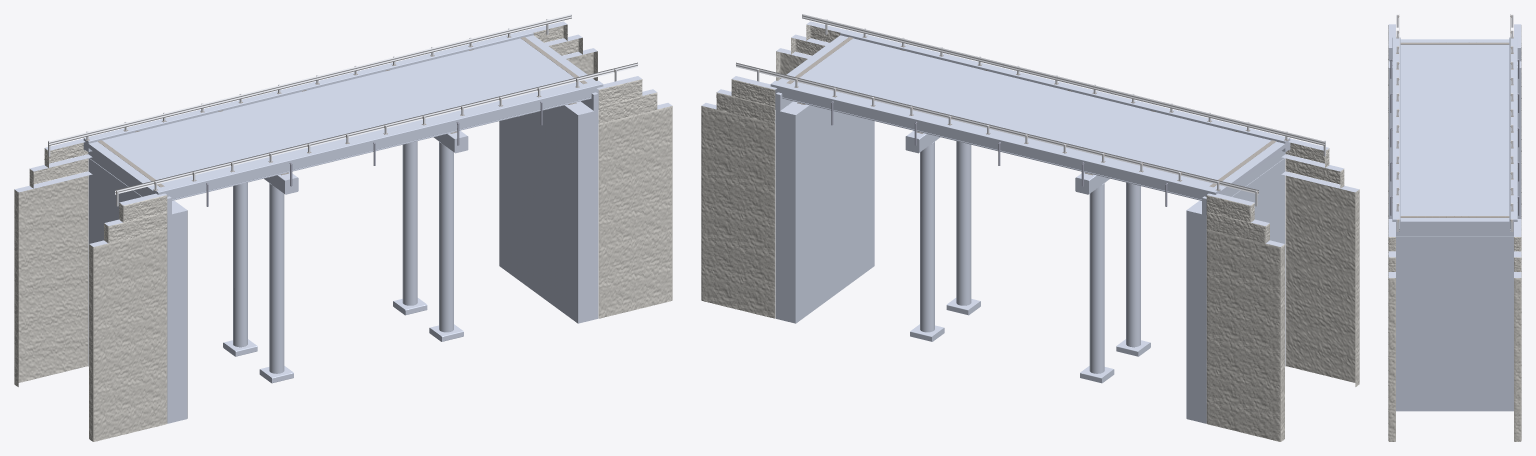
File: roadbridge.glb
3 renders of one model, left to right at view 1: azimuth 30°, elevation 25°; view 2: azimuth 150°, elevation 25°; view 3: azimuth 270°, elevation 25°, orthographic. The views are drawn at different scales.
Parts seen in each view (by area): view 1: roadbridge; view 2: roadbridge; view 3: roadbridge.
Boxes of the visible parts, x1,y1,x2,y2 form: roadbridge: [14, 14, 672, 441]; roadbridge: [701, 14, 1359, 441]; roadbridge: [1388, 14, 1521, 441].
Bounding box in the file's own units: 42.39 × 16.77 × 10.07.
